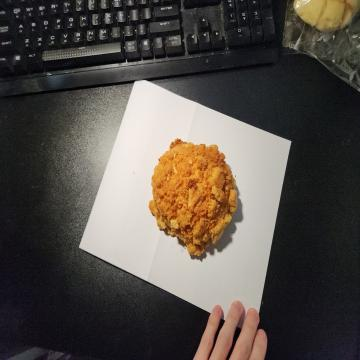soboru_bread: (147, 139, 238, 262)
